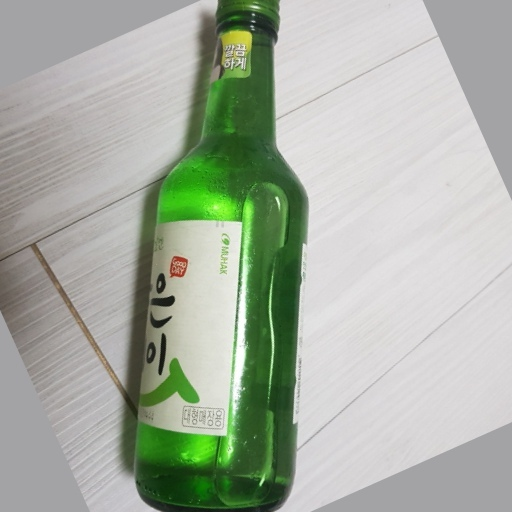Glass_0: (128, 1, 310, 512)
